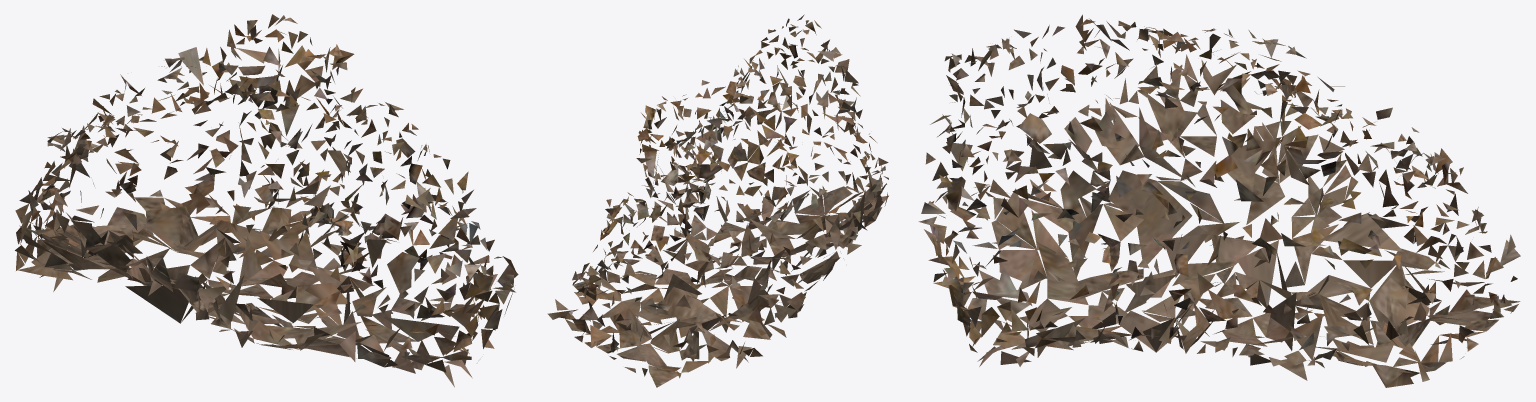
The model's file is boulder_01.glb.
The picture shows the model from 3 angles, left to right: view 1: azimuth 30°, elevation 25°; view 2: azimuth 150°, elevation 25°; view 3: azimuth 270°, elevation 25°; orthographic projection. The views are drawn at different scales.
Parts seen in each view (by area): view 1: boulder_01; view 2: boulder_01; view 3: boulder_01.
Part boxes in pixels (left/top/right/bottom): boulder_01: left=15, top=14, right=518, bottom=387; boulder_01: left=547, top=14, right=888, bottom=387; boulder_01: left=918, top=14, right=1520, bottom=387.
Bounding box in the file's own units: 1.26 × 1.03 × 1.8.
1 material, 1 textured.
